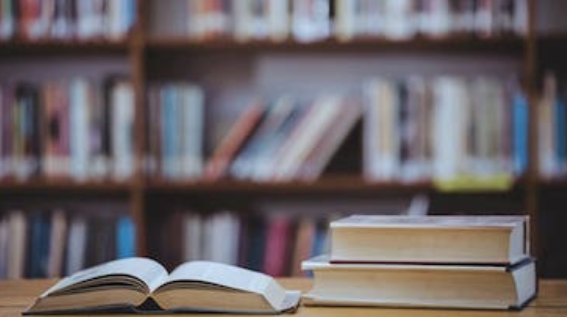book: (24, 256, 300, 316), (293, 254, 546, 312), (324, 213, 533, 264)
